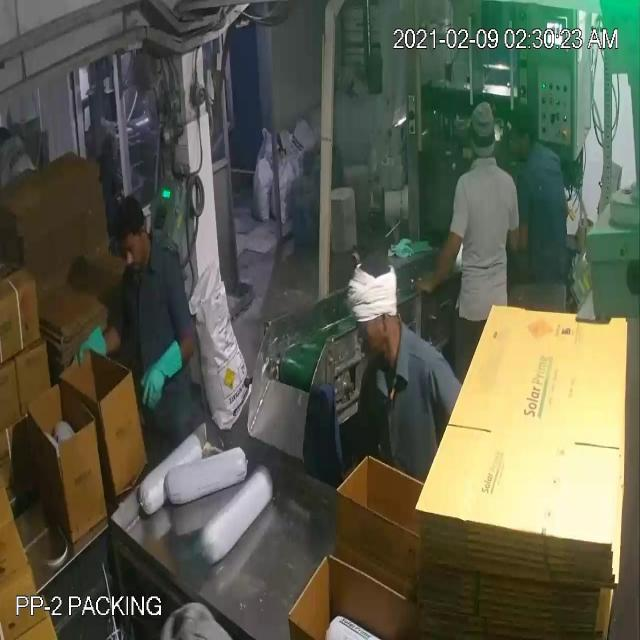Gloves: (45, 54, 438, 373)
